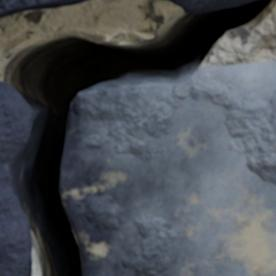brick: (0, 0, 85, 16), (169, 0, 251, 12)
broken_brick: (60, 60, 275, 275), (0, 83, 30, 275)
crack: (0, 0, 273, 275)
